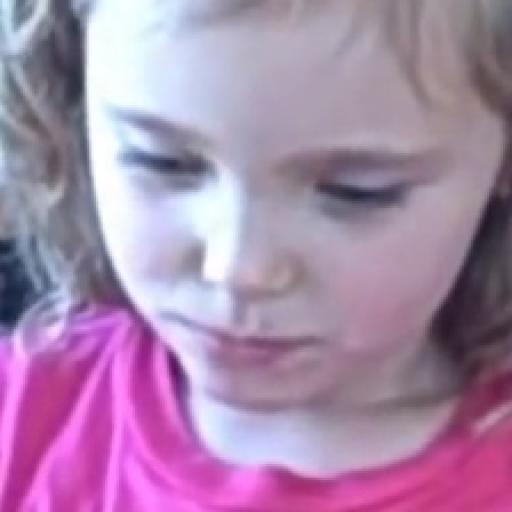Autism: (56, 0, 512, 465)
